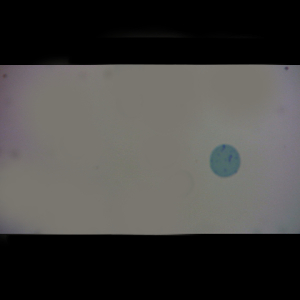erythrocyte: (209, 143, 242, 179)
